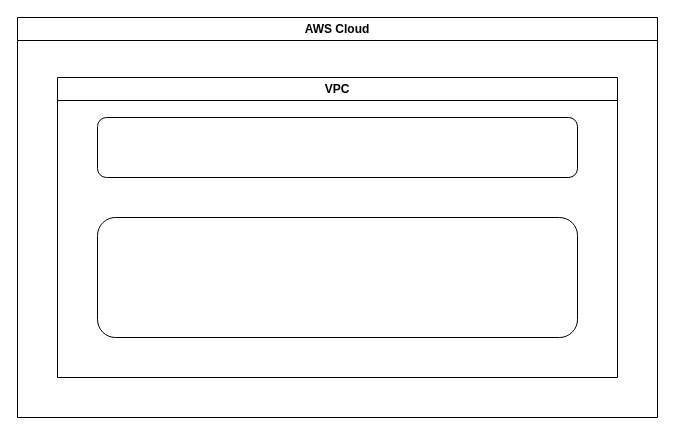
Some shapes in this 675 by 435 pixel diagram are drawn without their labels. The shapes that lost their labels are listed below. From the top down, each one's centre as x and y in pixels, then its label:
At (337,147): "Public Subnet (ALB, NAT)".
At (337,277): "Private Subnet (EKS Nodes, RDS, Redis)".
